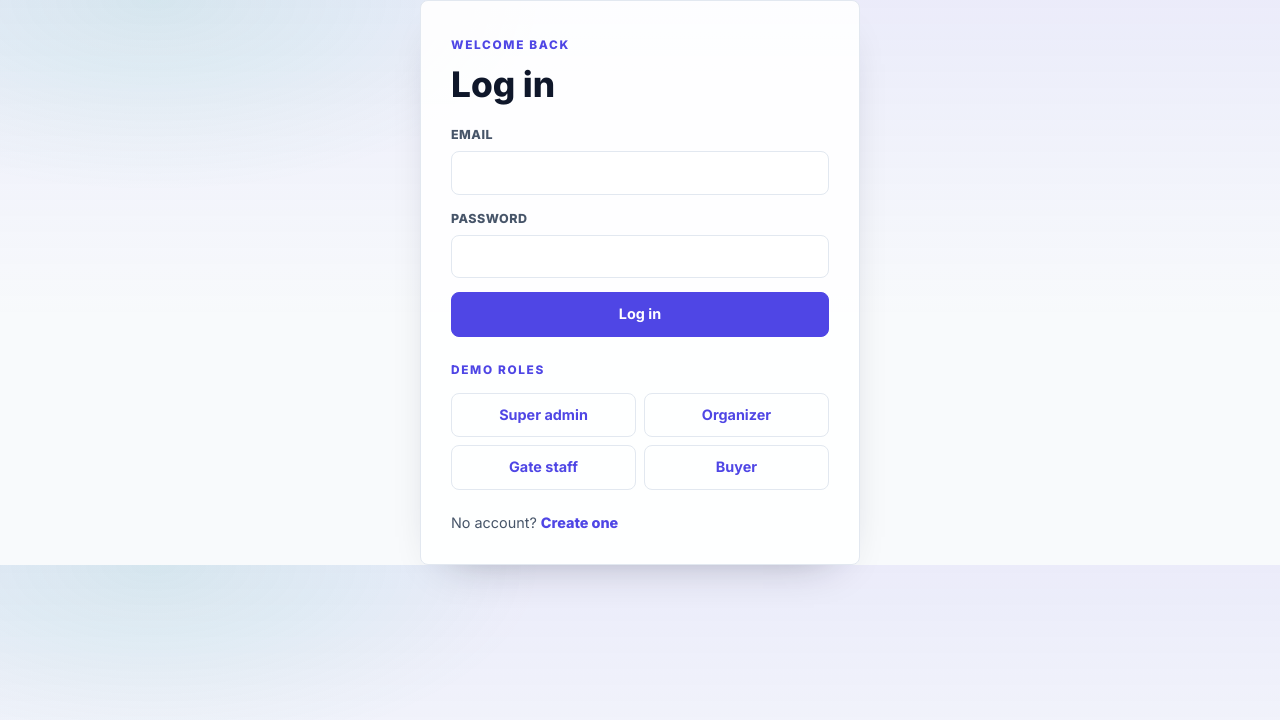
Test: Login › shows an error on invalid credentials
Step 1. Type "a@b.co" into the field labelled "Email" → (640, 173), box [451,152,829,195]
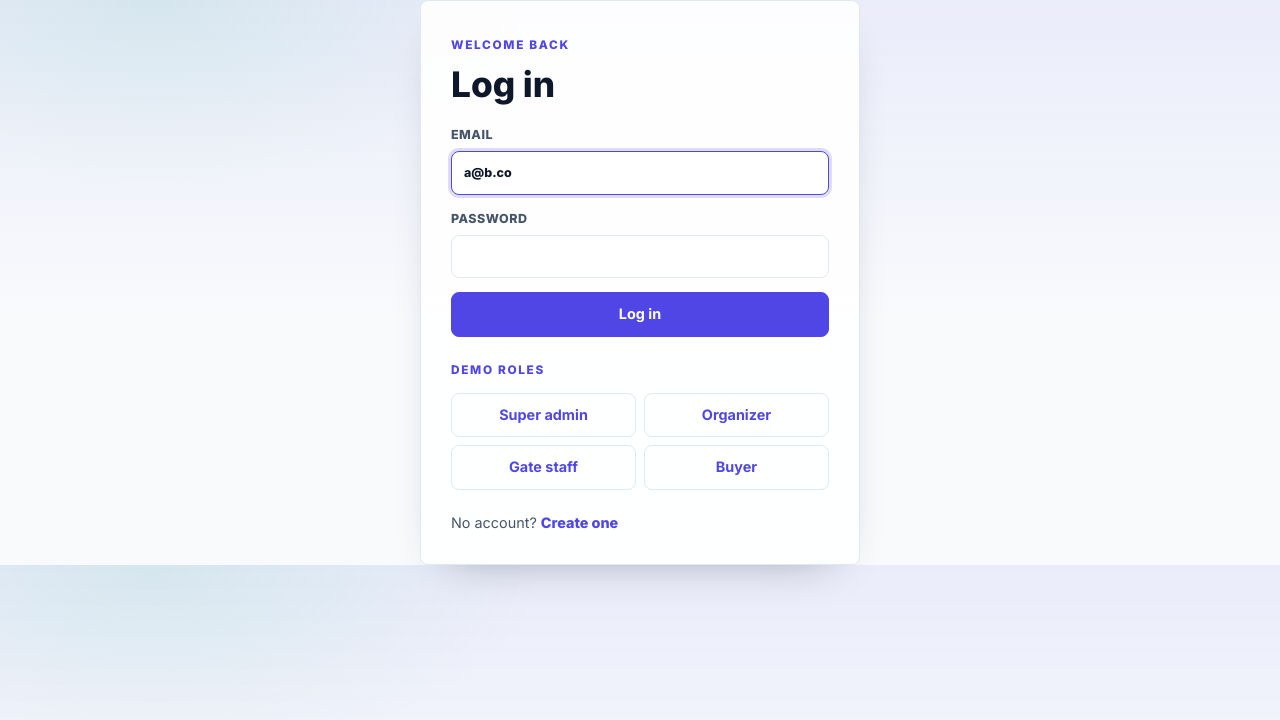
Step 2. Type "wrong" into the password field labelled "Password" → (640, 257), box [451,235,829,278]
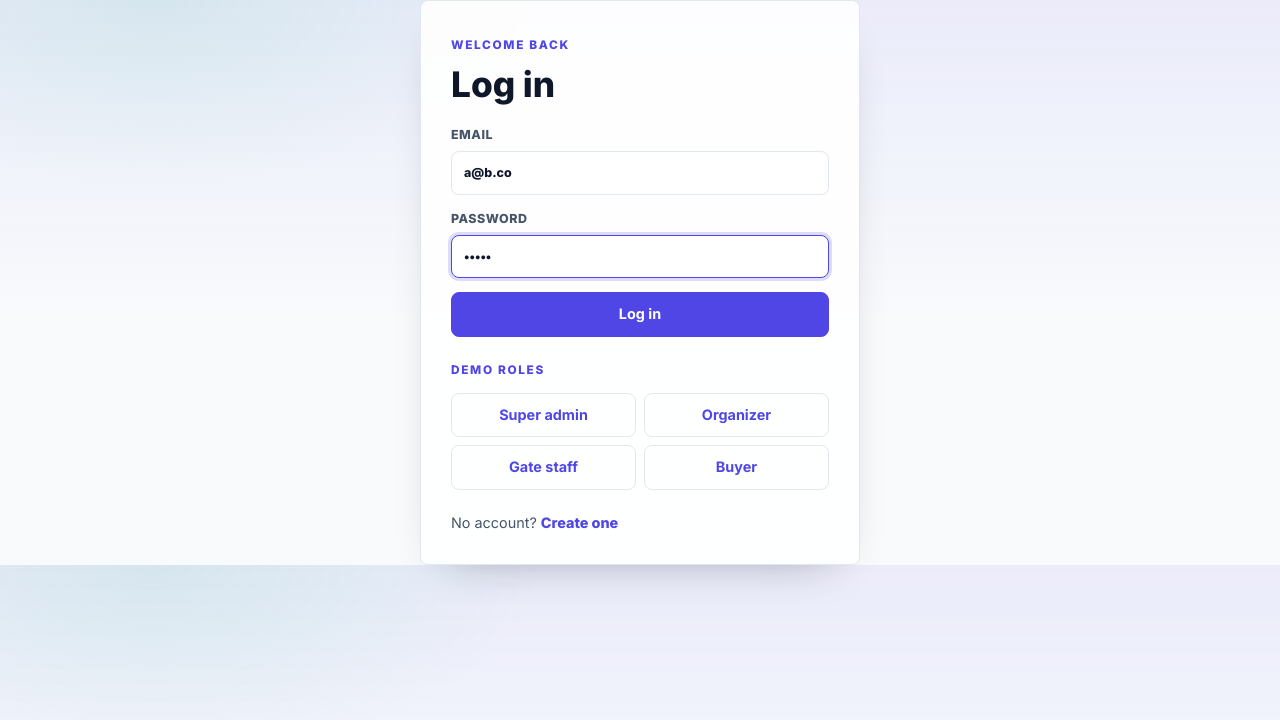
Step 3. Click the button "Log in" → (640, 315), box [451,292,829,337]
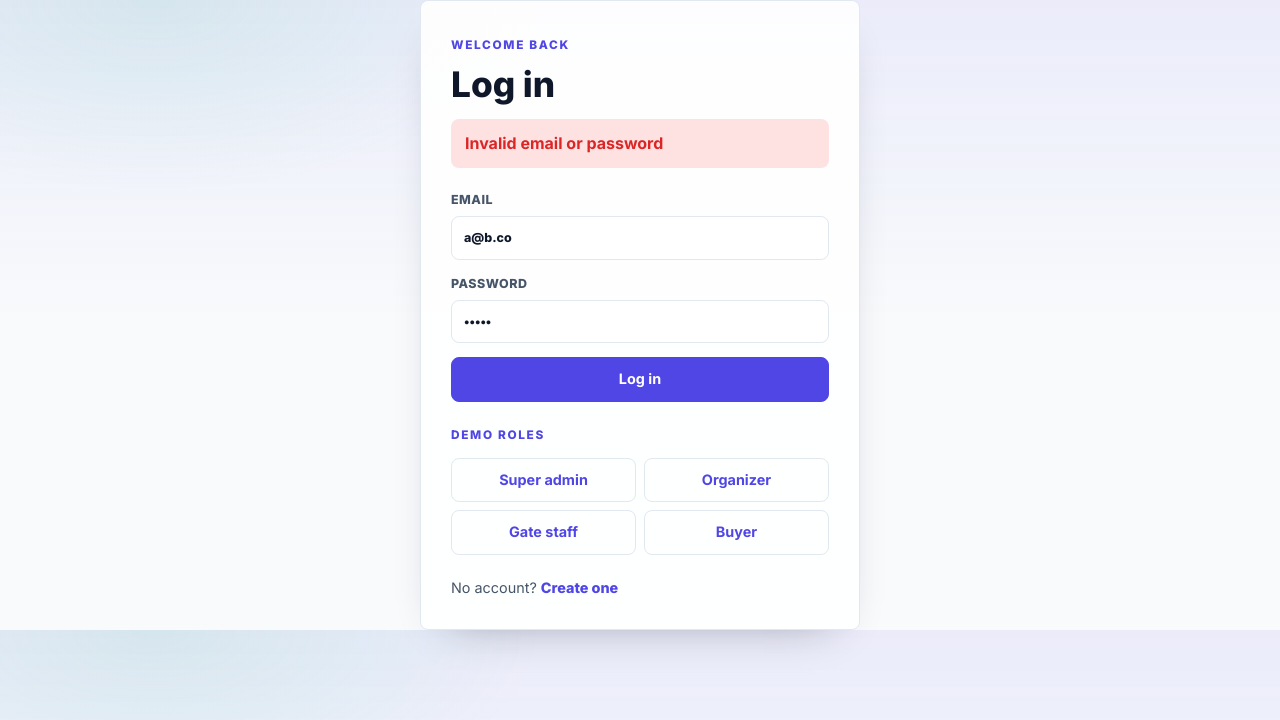
Now the text "Invalid email or password" is shown, box [451,119,829,168]
